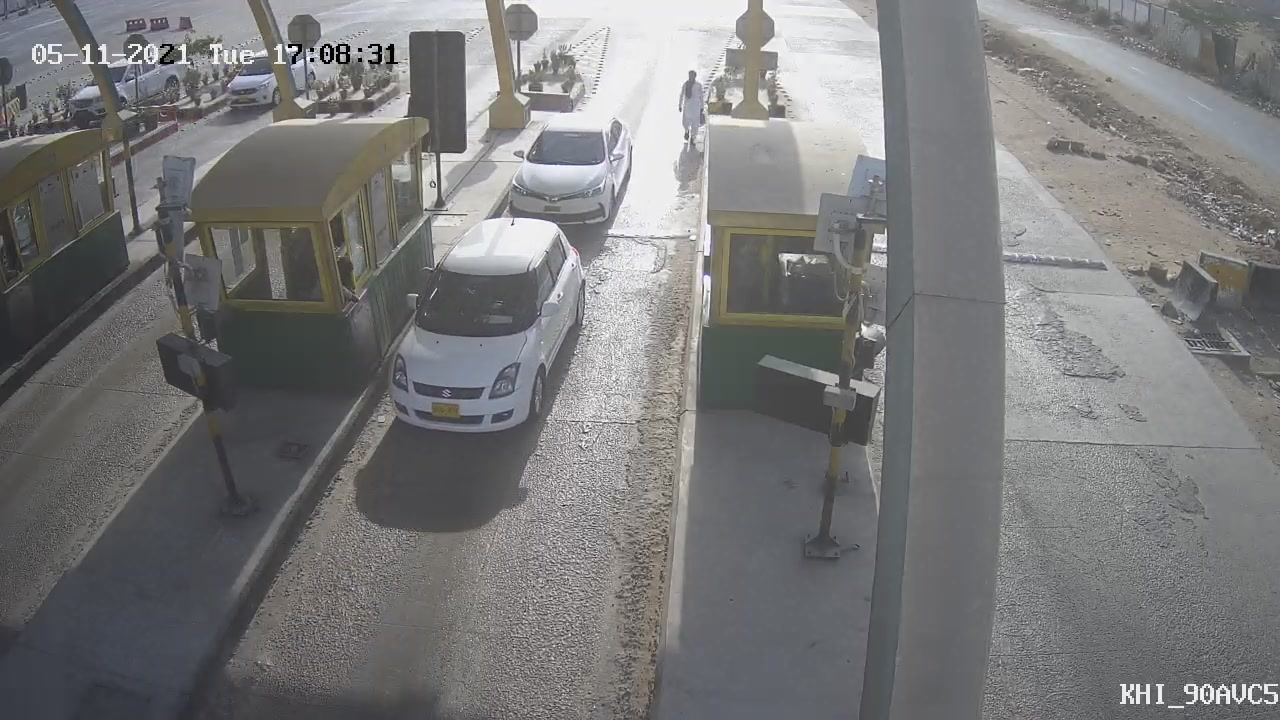F1: (365, 203, 605, 456), (492, 101, 650, 247)
